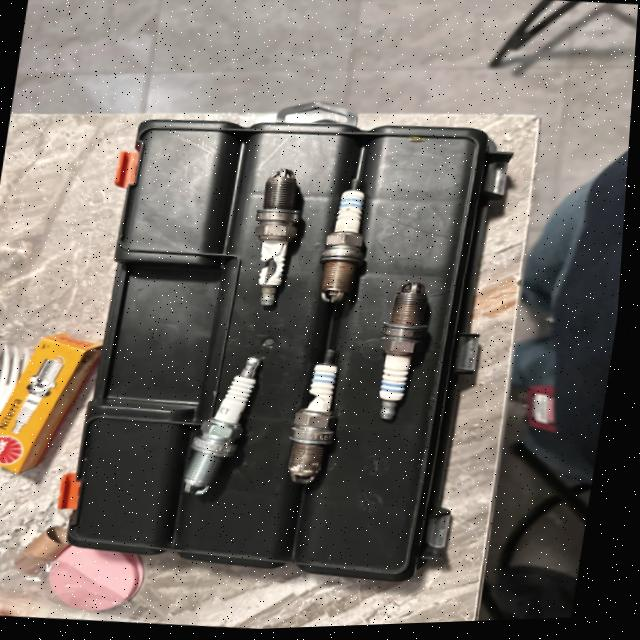damaged_spark-plug: (227, 162, 325, 320), (289, 346, 357, 492)
spark-plug: (173, 339, 287, 509), (306, 178, 399, 322), (374, 277, 433, 424)
